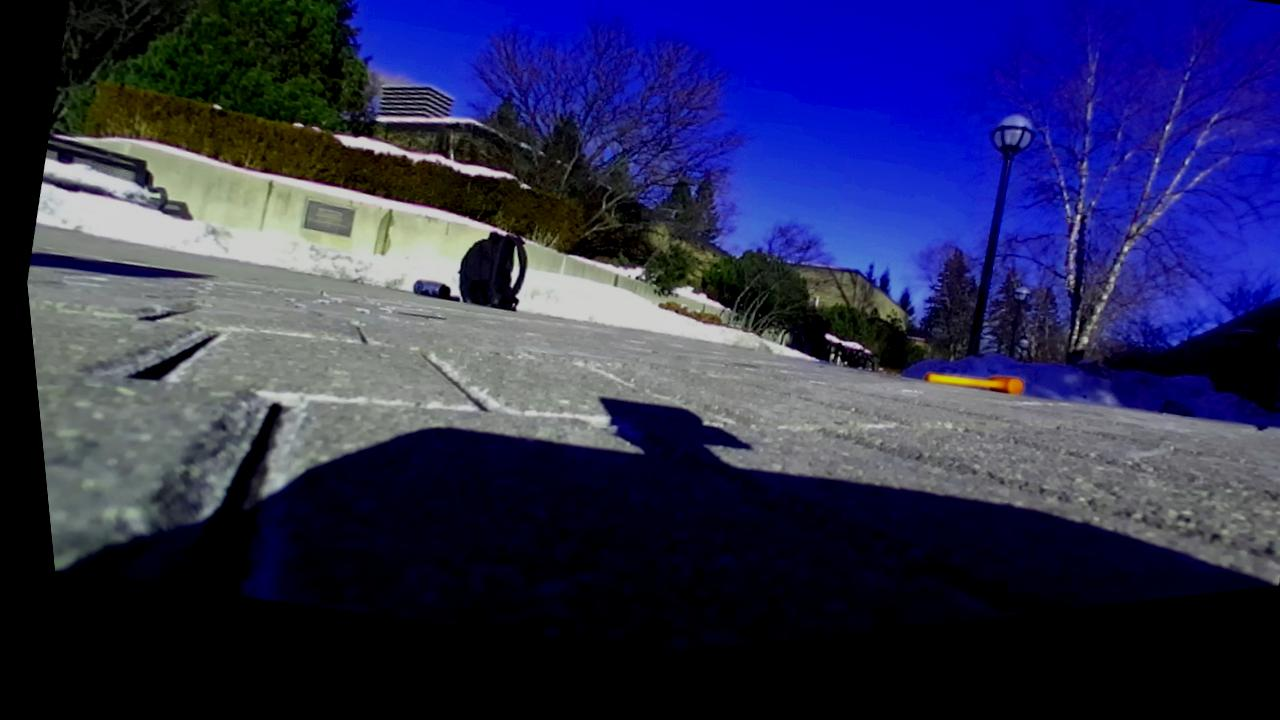bottle: (413, 281, 448, 297)
mallet: (927, 374, 1023, 394)
